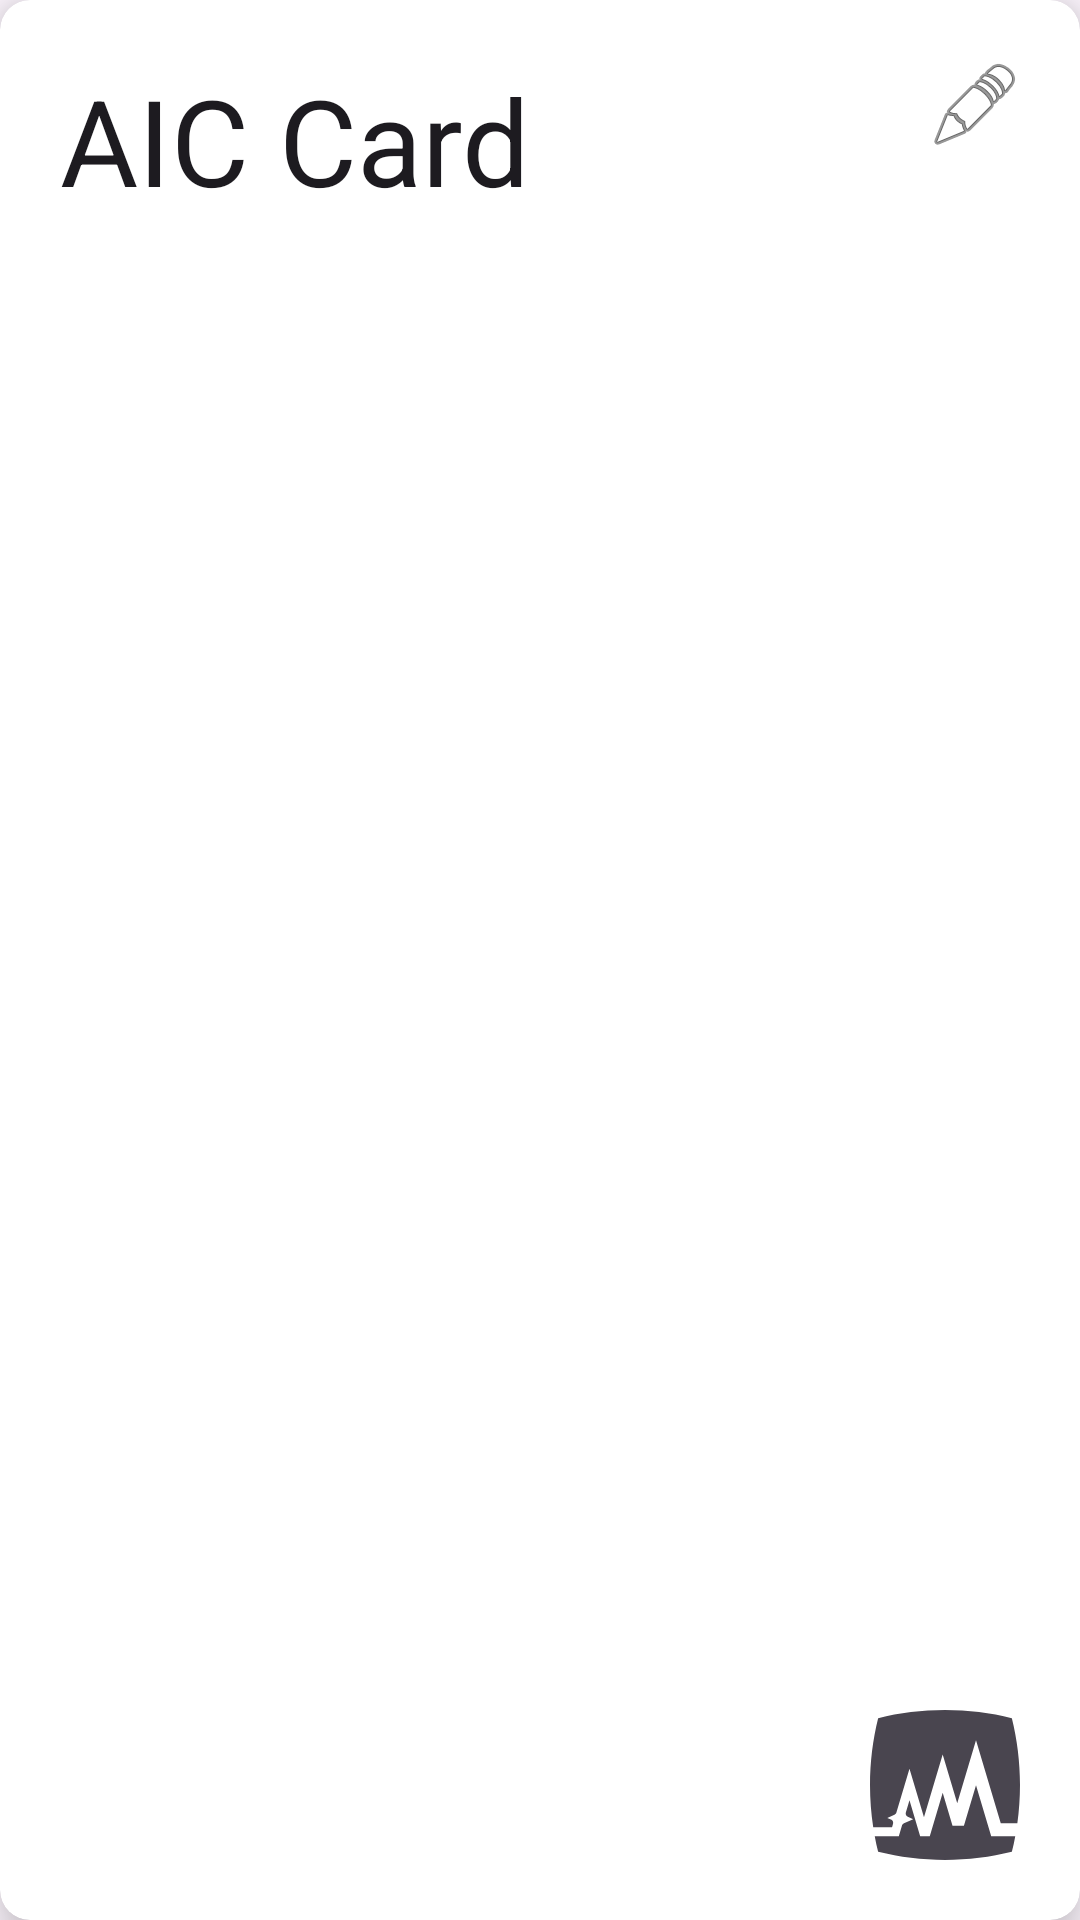

Where icons sit on this 1080x1920 app screen, as box(x1, y1, x2, y2):
edit: box(934, 64, 1015, 145)
